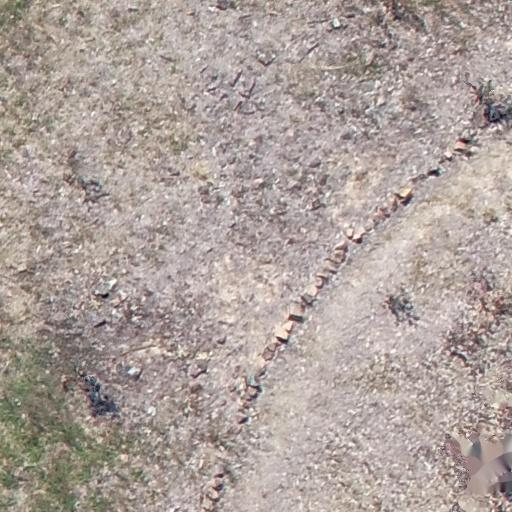stone: (196, 182, 224, 208), (92, 278, 118, 298), (233, 99, 259, 116), (187, 360, 210, 378), (204, 71, 222, 93), (238, 77, 256, 99), (331, 244, 348, 265), (453, 138, 474, 154), (180, 96, 198, 114), (289, 300, 307, 318), (256, 52, 276, 68), (248, 134, 264, 152), (350, 226, 366, 244), (281, 319, 297, 337), (304, 282, 320, 300), (338, 128, 357, 143), (245, 374, 262, 390), (373, 206, 389, 222), (262, 344, 278, 360), (300, 292, 316, 308), (364, 49, 378, 67), (244, 388, 262, 402), (147, 344, 165, 358), (397, 188, 412, 204), (306, 199, 324, 212), (230, 70, 243, 88), (212, 0, 231, 12), (126, 366, 144, 378), (254, 365, 268, 380), (176, 345, 190, 360), (211, 479, 225, 493), (206, 488, 220, 502), (314, 274, 328, 288), (199, 492, 211, 508), (308, 157, 322, 170), (388, 196, 399, 212), (426, 167, 442, 178), (257, 354, 269, 368), (275, 334, 289, 346), (475, 333, 487, 346), (213, 334, 228, 344), (188, 382, 202, 392), (251, 178, 265, 188), (196, 351, 210, 361), (16, 263, 28, 274), (346, 227, 356, 240), (237, 415, 250, 425), (93, 319, 107, 328), (444, 148, 454, 160), (331, 17, 341, 29), (207, 5, 222, 13), (146, 405, 156, 417), (118, 453, 130, 463), (213, 472, 225, 481), (126, 6, 140, 13), (168, 507, 180, 512), (329, 26, 330, 28)
